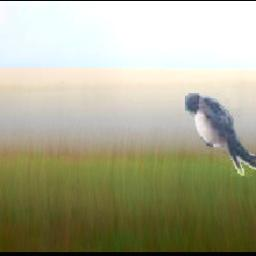Swallow: (185, 94, 256, 178)
